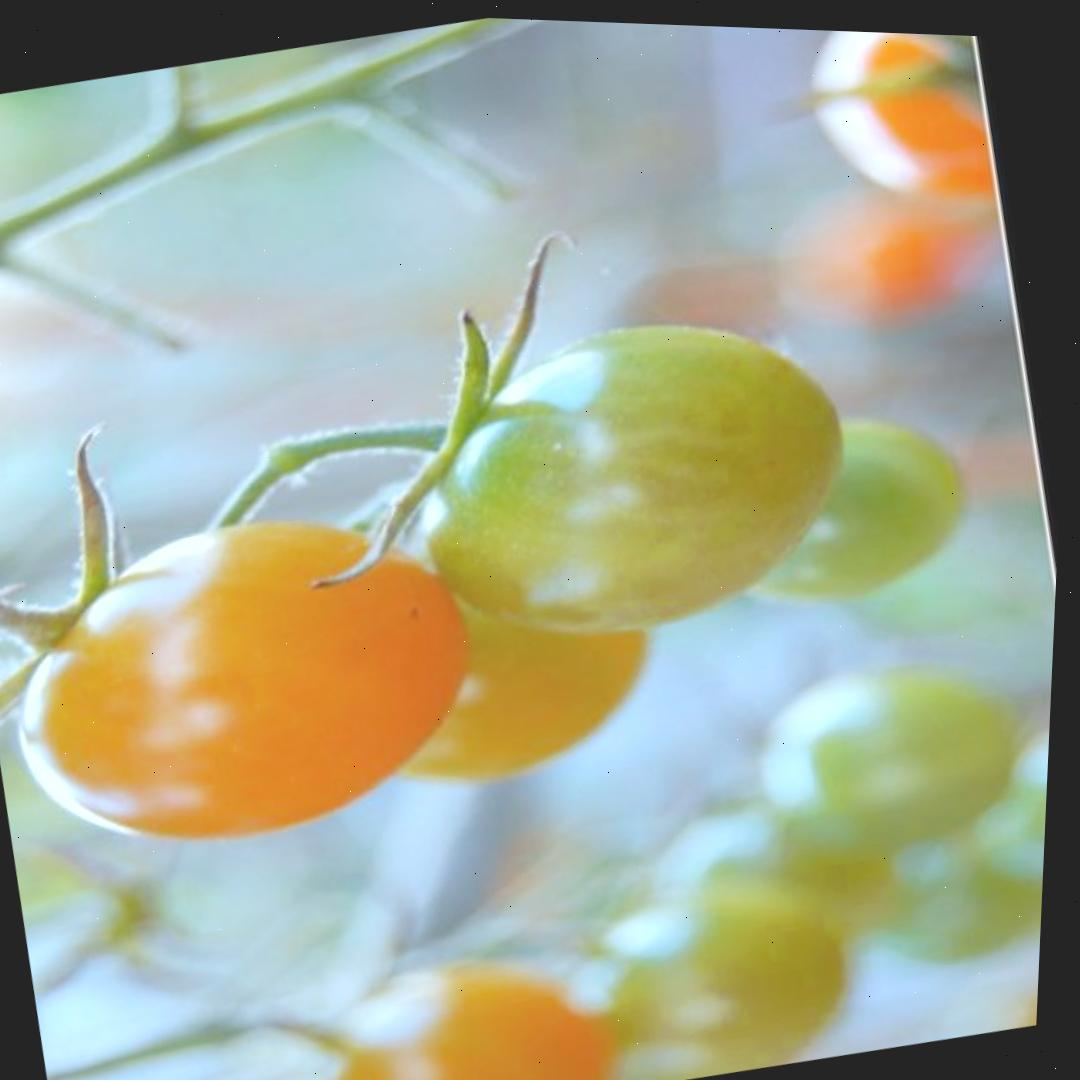mentah: (379, 279, 879, 682)
setengah_matang: (0, 472, 509, 895)
